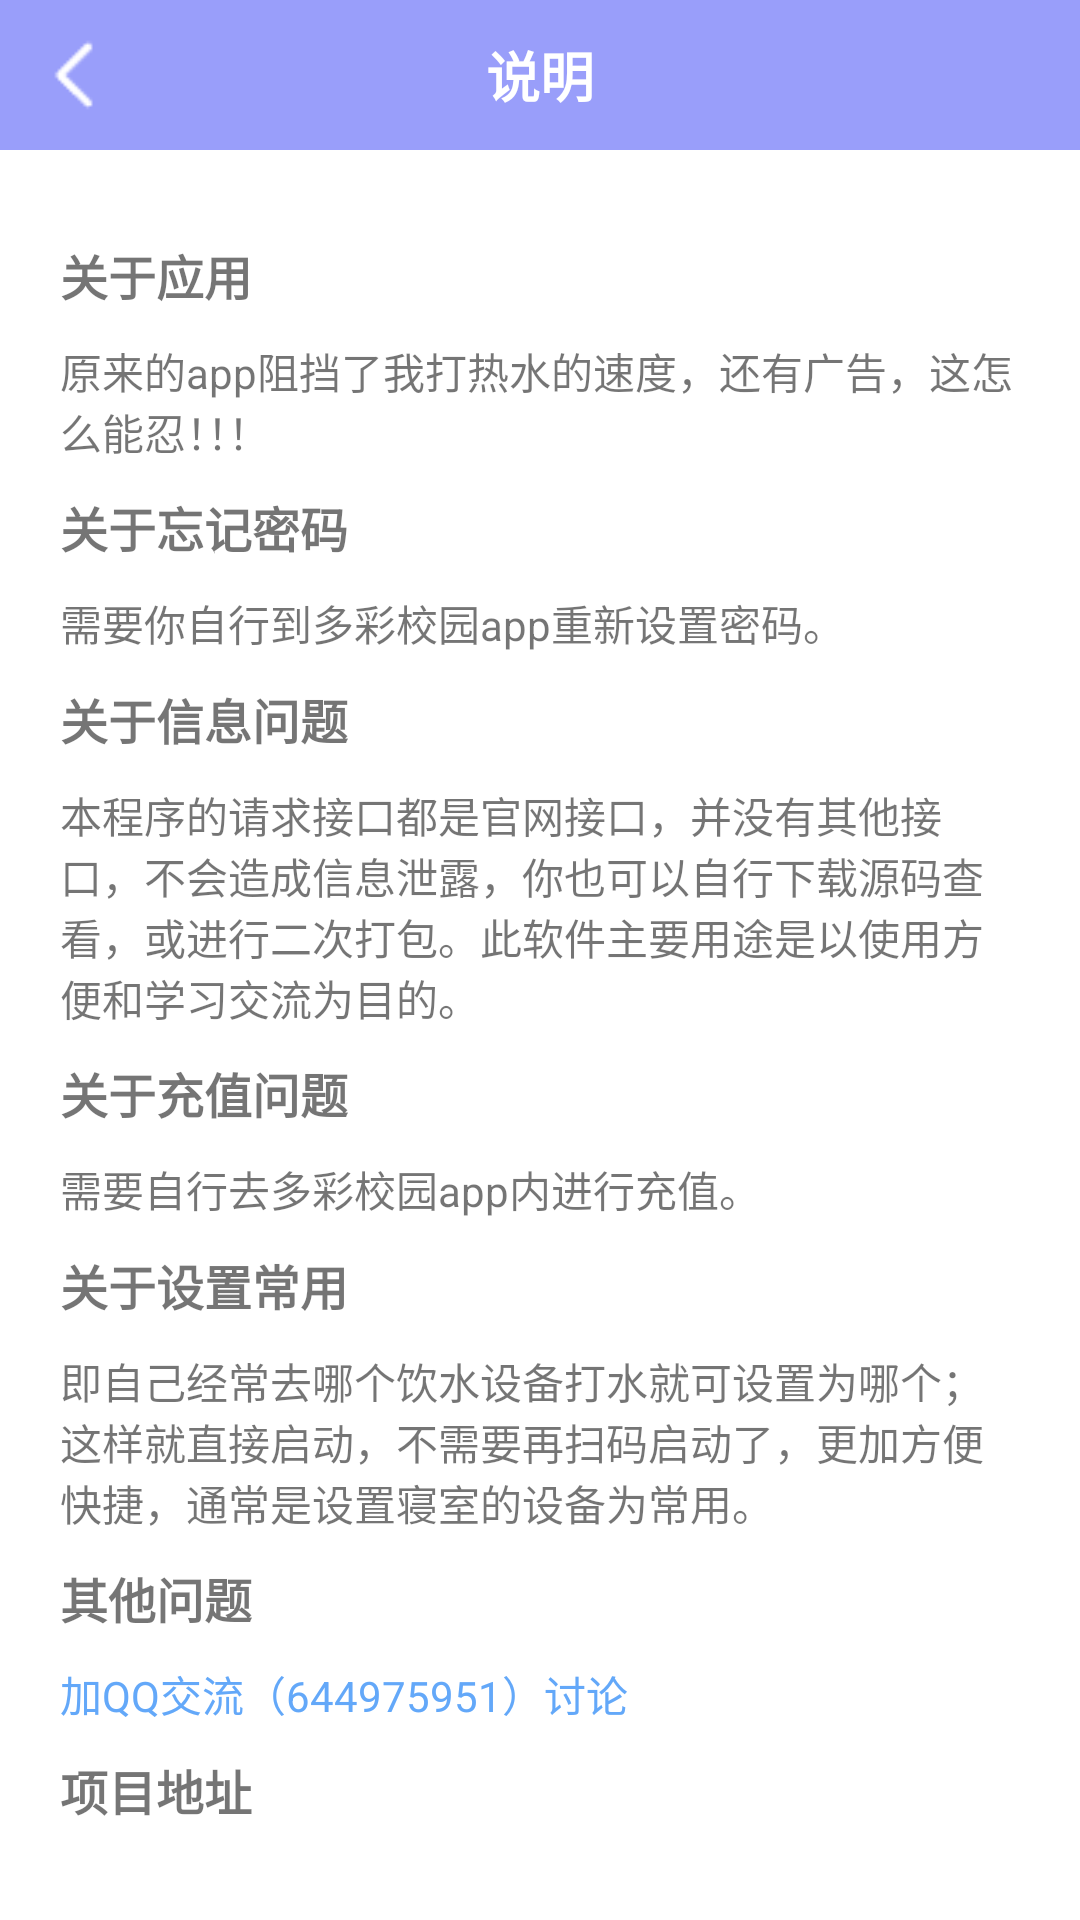

Icons on this 1080 × 1920 Android screen, each with the point to tap as (x=x, y=y):
back: (x=73, y=75)
